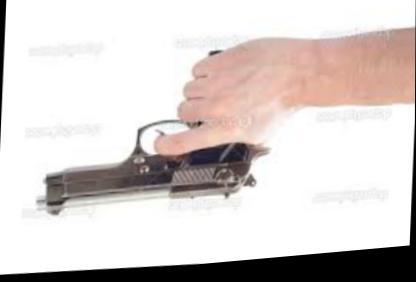pistol: (34, 43, 270, 224)
